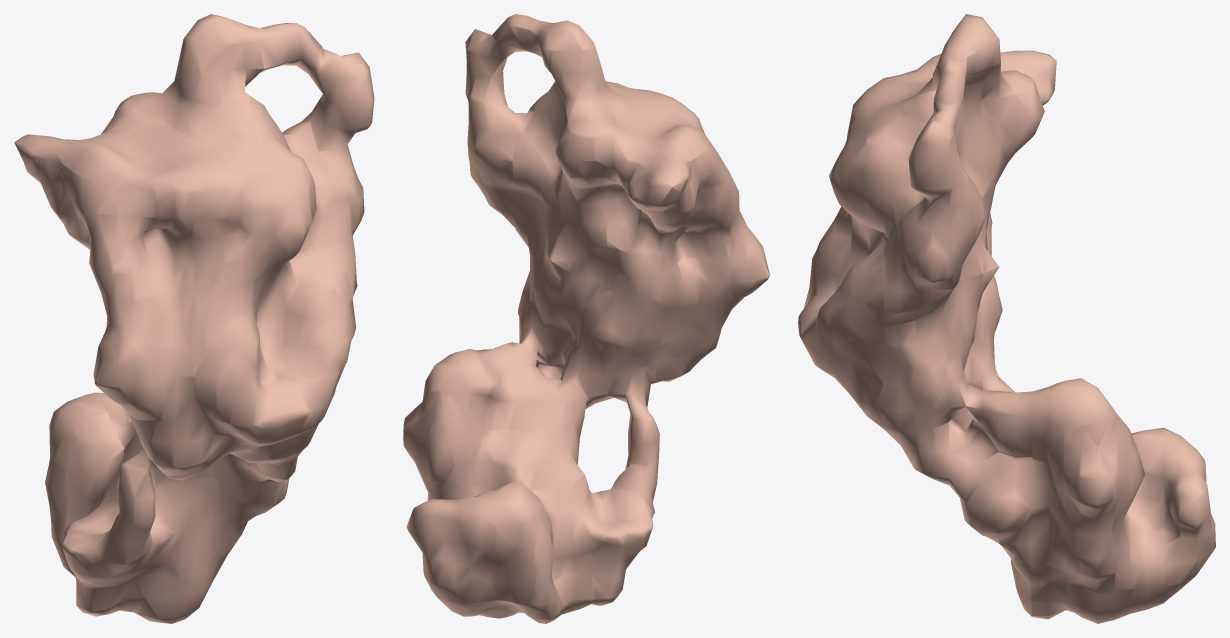
Rendered from HIV1_CA_mono_0_1_0.dae.
3 renders of one model, left to right at view 1: azimuth 30°, elevation 25°; view 2: azimuth 150°, elevation 25°; view 3: azimuth 270°, elevation 25°, orthographic. The views are drawn at different scales.
Visible parts, largest first — view 1: CoarseMS_3j3q_1vu4_A_biomt; view 2: CoarseMS_3j3q_1vu4_A_biomt; view 3: CoarseMS_3j3q_1vu4_A_biomt.
Part boxes in pixels (bbox=[...]): CoarseMS_3j3q_1vu4_A_biomt: bbox=[14, 14, 374, 623]; CoarseMS_3j3q_1vu4_A_biomt: bbox=[403, 14, 769, 623]; CoarseMS_3j3q_1vu4_A_biomt: bbox=[798, 14, 1215, 623].
Bounding box in the file's own units: 40.37 × 78.94 × 49.42.
